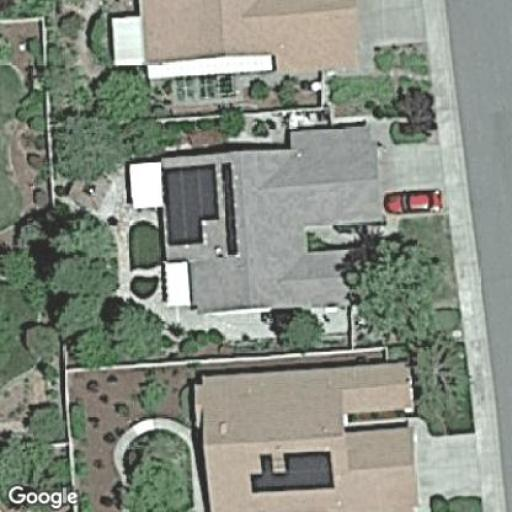solar-panel: (160, 160, 242, 256), (244, 447, 337, 495)
